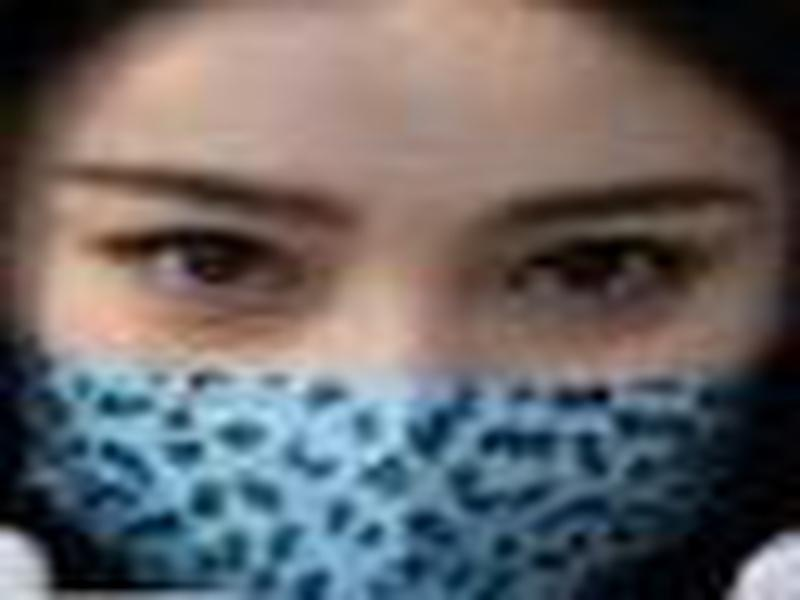with_mask: (1, 2, 795, 600)
